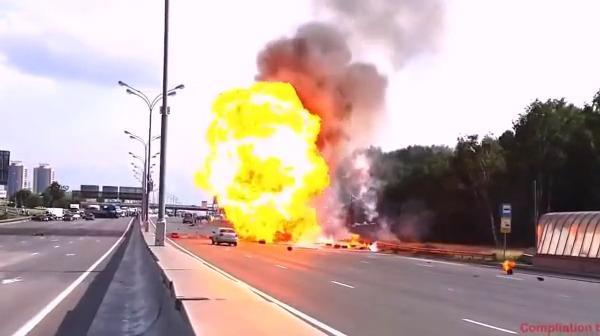fire: (197, 81, 329, 248), (341, 235, 374, 249), (503, 256, 514, 272)
